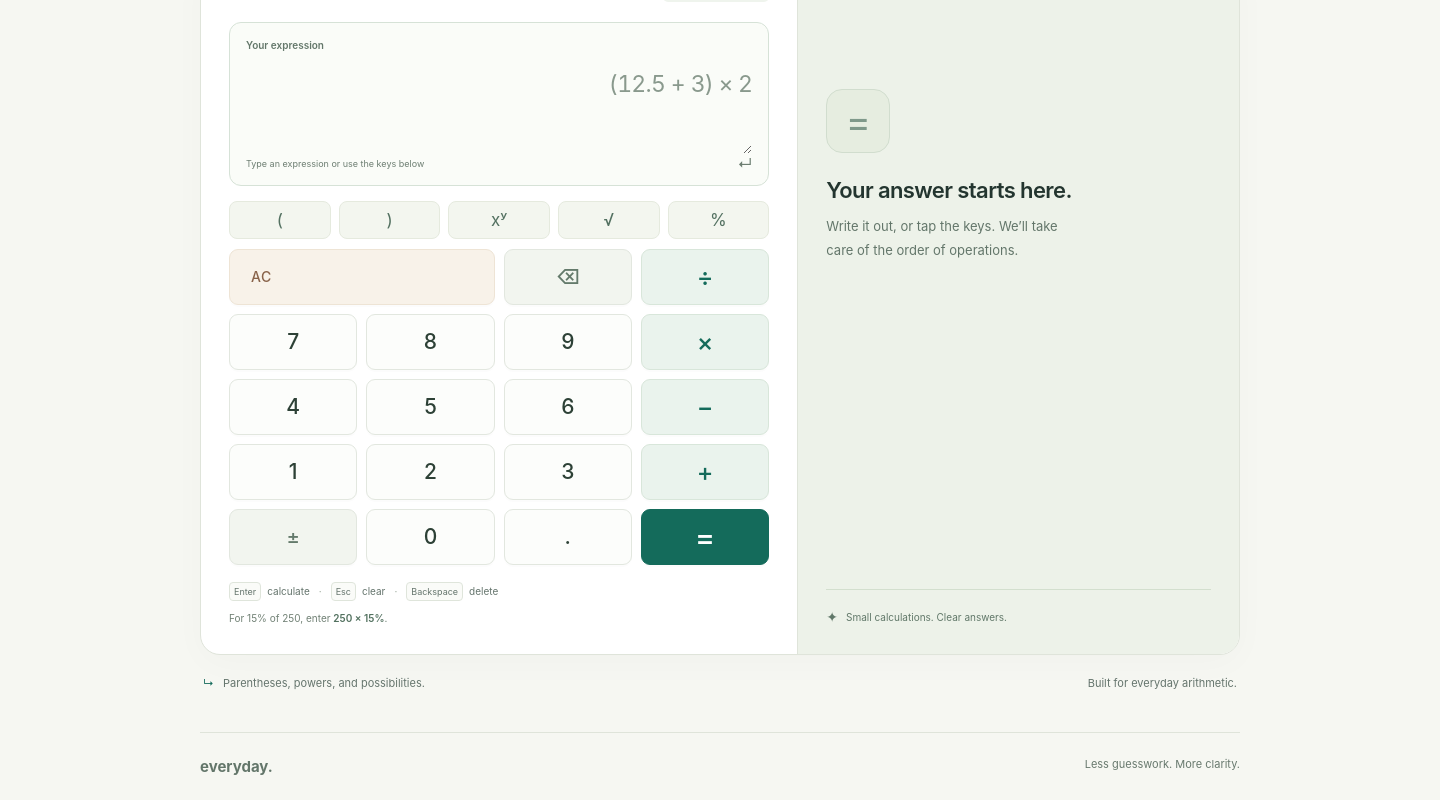
expression calculator › rejects blank input before making a request
(page scrolled)
Click the button named "Calculate": coordinates (705, 537) 641,509 -> 769,565
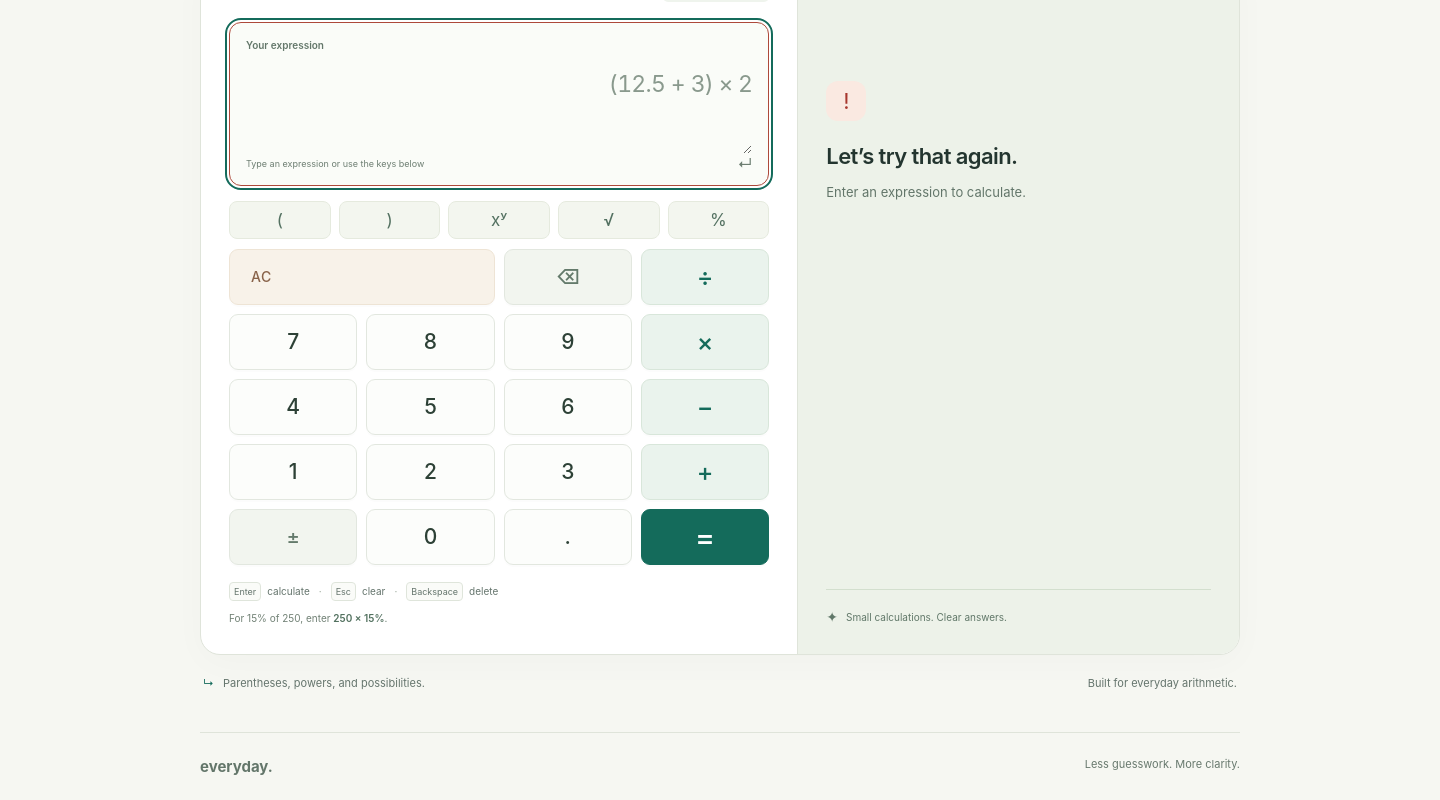
expect the message shows "Enter an expression": met, box 826,184 -> 1026,200
